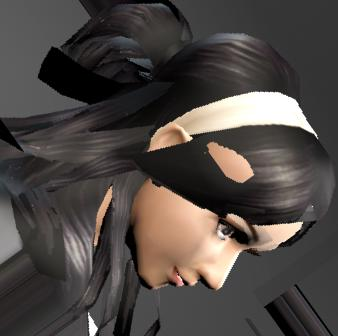clip: (203, 136, 238, 170)
